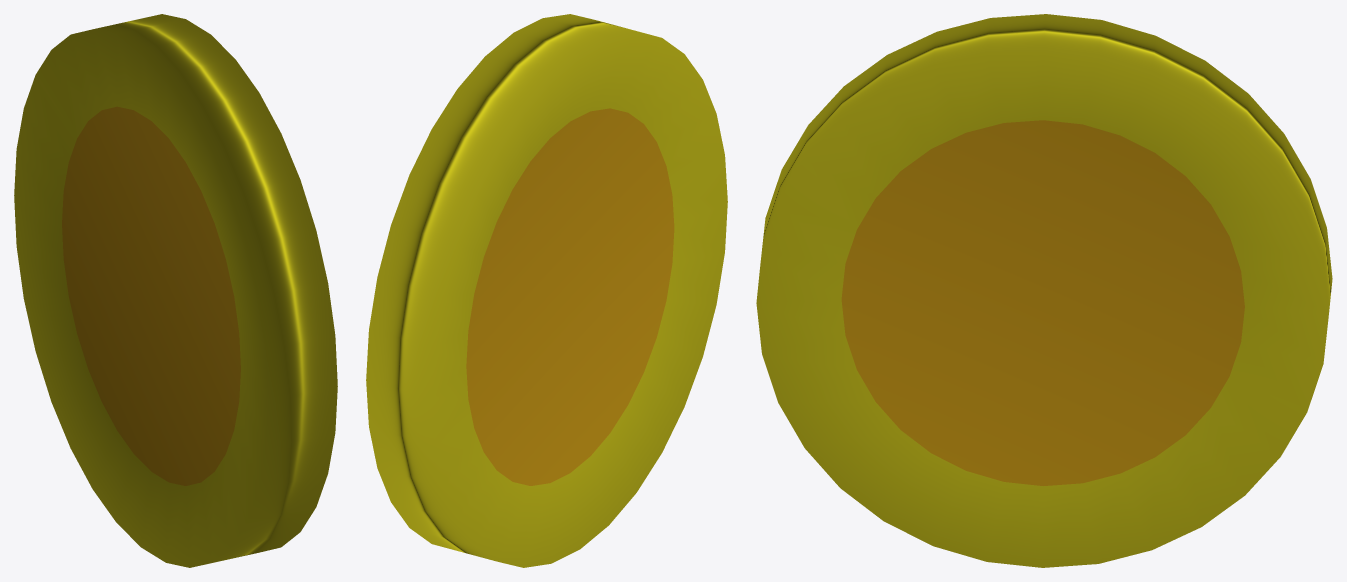
The picture shows the model from 3 angles, left to right: view 1: azimuth 30°, elevation 25°; view 2: azimuth 150°, elevation 25°; view 3: azimuth 270°, elevation 25°; orthographic projection. The views are drawn at different scales.
Visible parts, largest first — view 1: Cylinder; view 2: Cylinder; view 3: Cylinder.
Part boxes in pixels (box(x1,y1,x2,y2)): Cylinder: box(14, 14, 337, 567); Cylinder: box(366, 14, 727, 567); Cylinder: box(756, 14, 1332, 567).
Bounding box in the file's own units: 27.81 × 150 × 151.
